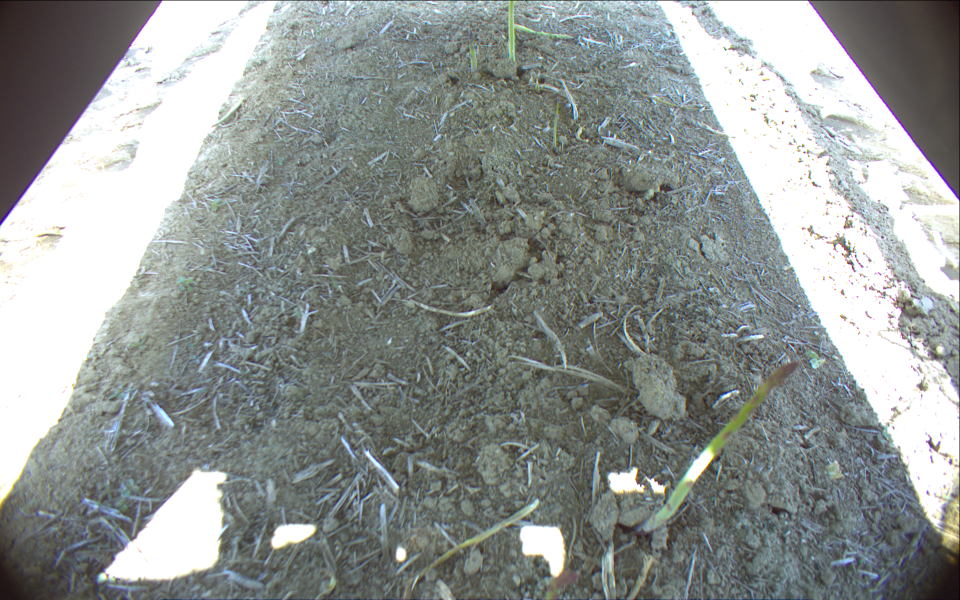aspa: (639, 363, 803, 532), (407, 501, 539, 586), (638, 91, 712, 110), (513, 23, 571, 39), (507, 1, 516, 62), (470, 28, 481, 72), (552, 98, 561, 150)
